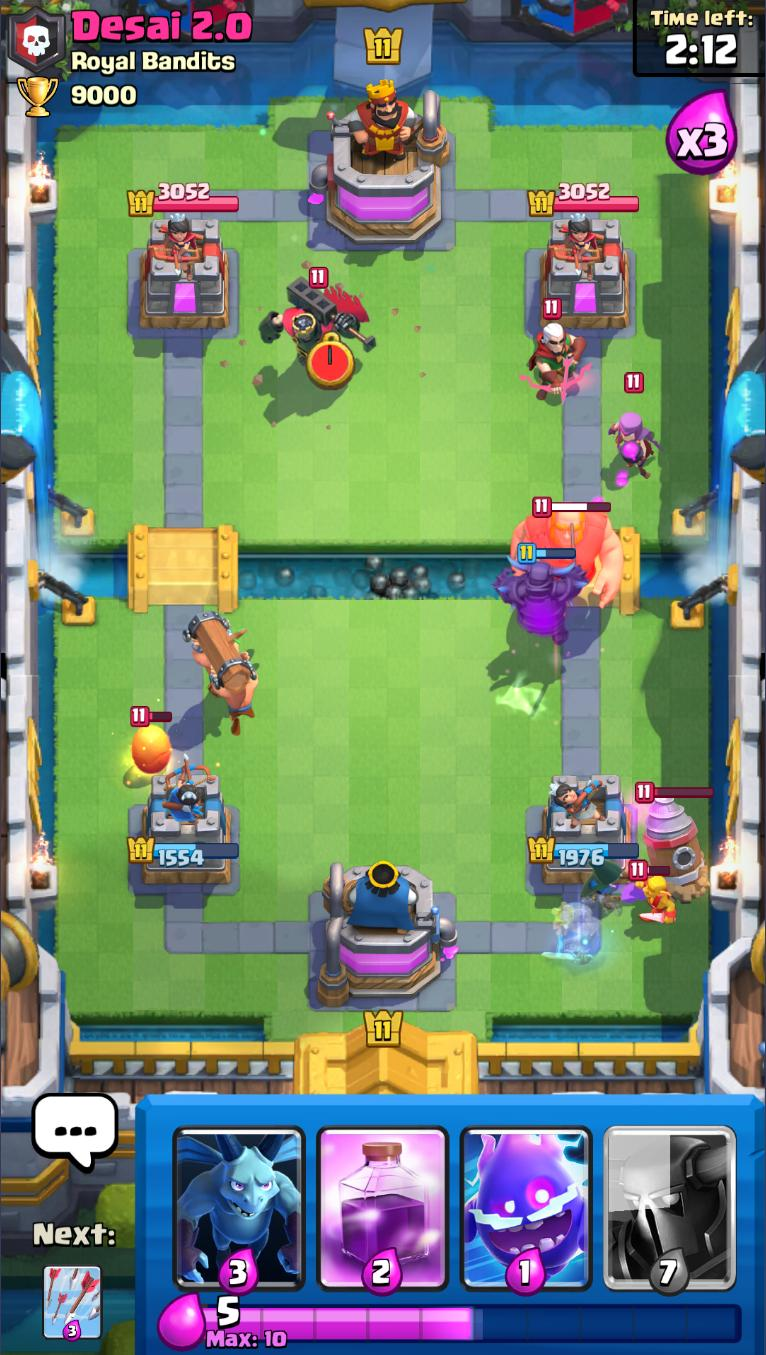ArrowNext: (41, 1264, 103, 1343)
ElectroSpiritDeck: (454, 1096, 600, 1296)
Elixir: (203, 1294, 744, 1351)
EnemyTower: (136, 214, 234, 334), (539, 214, 633, 333)
Giant: (510, 494, 627, 609)
Goblin: (630, 859, 676, 926)
GoblinDrill: (636, 780, 713, 904)
KingTower: (309, 79, 454, 250)
MagicArcher: (517, 296, 587, 396)
MinionsDeck: (166, 1096, 311, 1294)
MotherWitch: (610, 371, 659, 483)
MyBandit: (556, 860, 629, 910)
MyBattleRam: (183, 609, 264, 734)
MyKingTower: (314, 859, 460, 1011)
MyPekka: (491, 540, 589, 644)
MyPrincessTower: (124, 770, 240, 893), (527, 771, 641, 889)
MyPrincessTowerHP: (124, 834, 241, 867), (526, 834, 641, 866)
MyRoyaleGhost: (540, 893, 617, 971)
PekkaDeck: (597, 1094, 741, 1299)
PhoenixEgg: (129, 704, 176, 773)
PrincessTower: (147, 217, 206, 266), (550, 217, 604, 266)
RageDeck: (313, 1099, 451, 1297)
SkeletonKing: (256, 266, 377, 369)
TowerPrincessHP: (127, 181, 240, 217), (530, 183, 641, 217)
